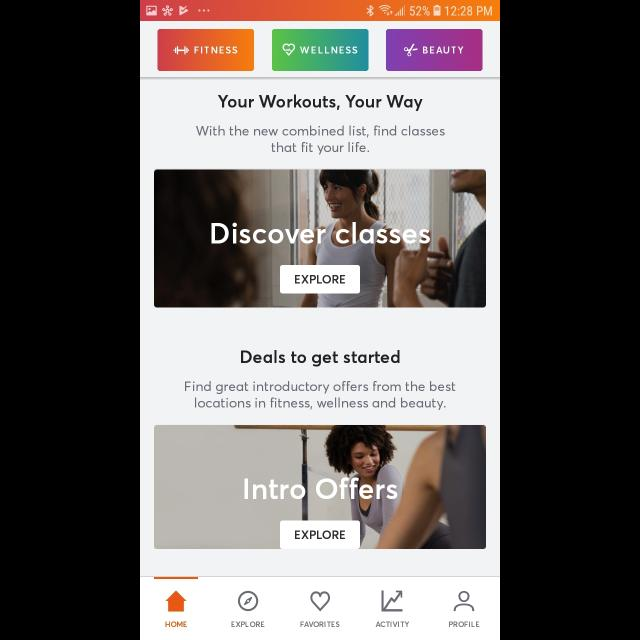icon: (166, 590, 187, 612), (382, 590, 402, 612), (238, 591, 258, 611), (310, 591, 330, 611), (454, 591, 474, 611)
image: (154, 170, 486, 308), (154, 425, 486, 549)
text: (185, 381, 455, 411), (196, 126, 444, 154), (212, 222, 430, 244), (245, 477, 398, 499), (218, 95, 422, 111), (240, 349, 400, 366), (300, 621, 340, 627), (376, 621, 409, 627), (232, 621, 264, 627), (449, 621, 479, 627), (166, 621, 188, 627)
textbutton: (158, 30, 255, 72), (386, 29, 482, 71), (272, 29, 368, 71), (280, 521, 360, 549), (280, 266, 360, 294)
uppertaskbar: (140, 1, 500, 22)
